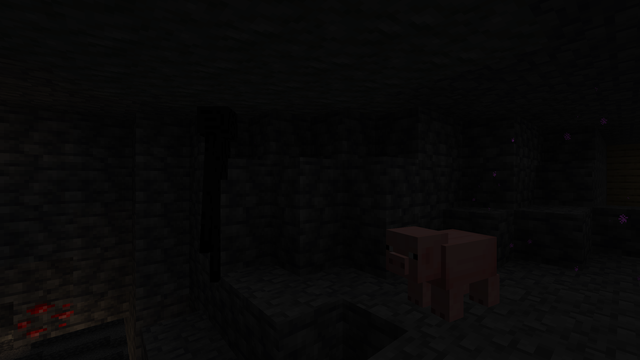cochons: (400, 225, 500, 329)
endermens: (194, 97, 241, 283)
